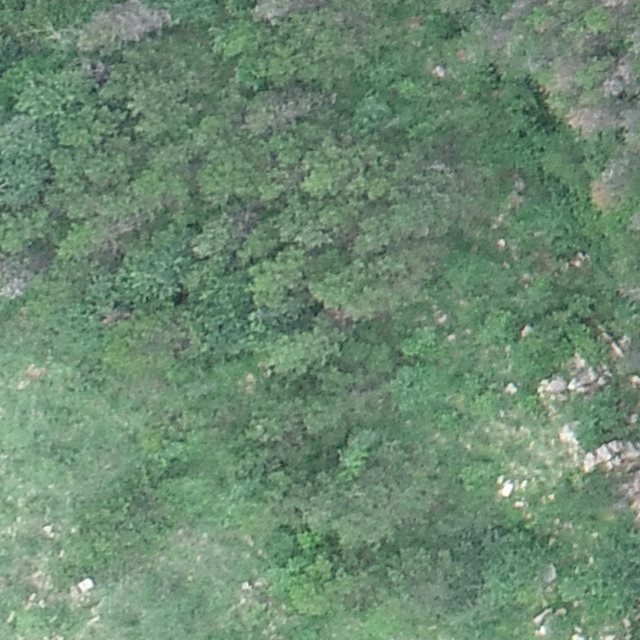unhealthy: (254, 85, 330, 131), (94, 1, 169, 42), (590, 163, 630, 212), (251, 0, 324, 24), (565, 103, 611, 136), (600, 55, 635, 96), (620, 463, 640, 528), (596, 0, 631, 10), (628, 204, 639, 235)
